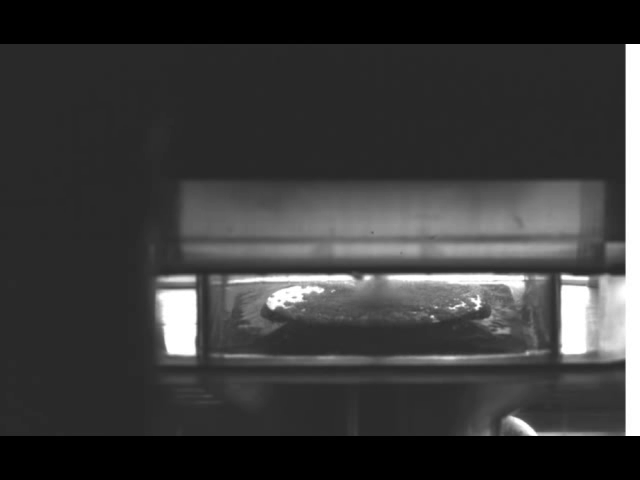Zona de teste: (262, 281, 487, 328)
